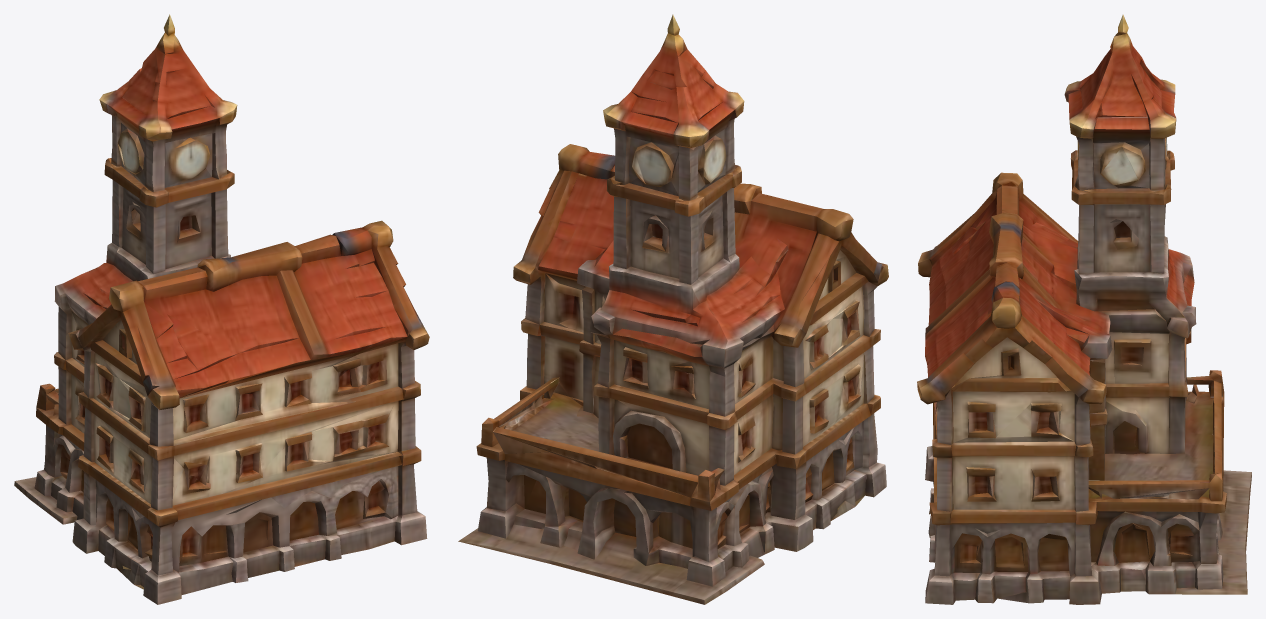
The model's file is village3.lod1.glb.
3 renders of one model, left to right at view 1: azimuth 30°, elevation 25°; view 2: azimuth 150°, elevation 25°; view 3: azimuth 270°, elevation 25°, orthographic. The views are drawn at different scales.
Parts seen in each view (by area): view 1: village3.lod1_uv; view 2: village3.lod1_uv; view 3: village3.lod1_uv.
Boxes of the visible parts, <box> form: village3.lod1_uv: <box>14,14,429,604</box>; village3.lod1_uv: <box>458,14,888,604</box>; village3.lod1_uv: <box>917,14,1251,604</box>.
Size of the model in its own units: 1.11 by 1.9 by 1.13.
Materials: 1 (1 with a texture image).
